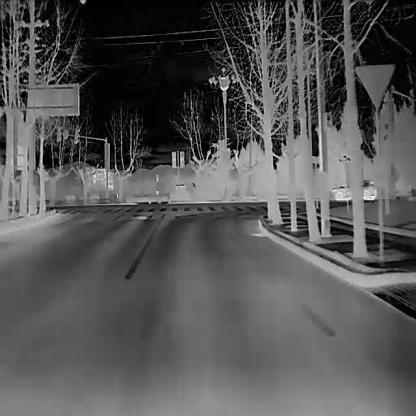car: (332, 179, 378, 202)
